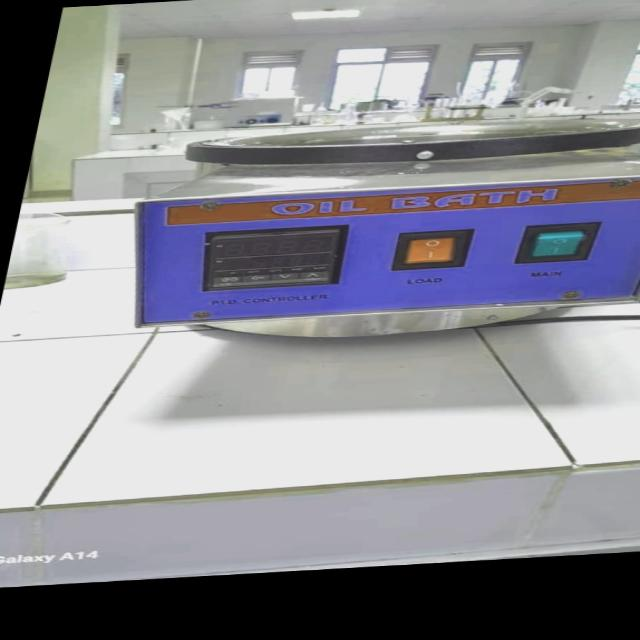Water-Oil Bath: (82, 100, 640, 349)
